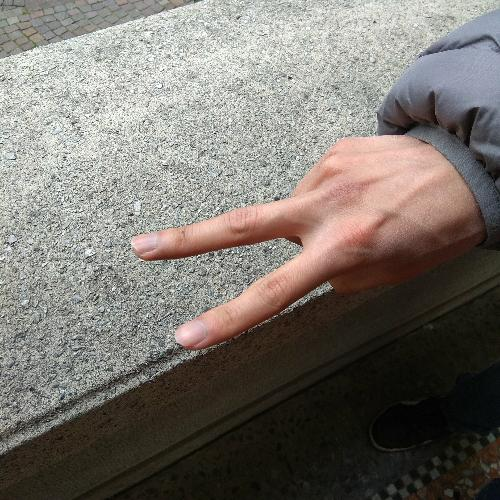scissors: (122, 131, 486, 355)
